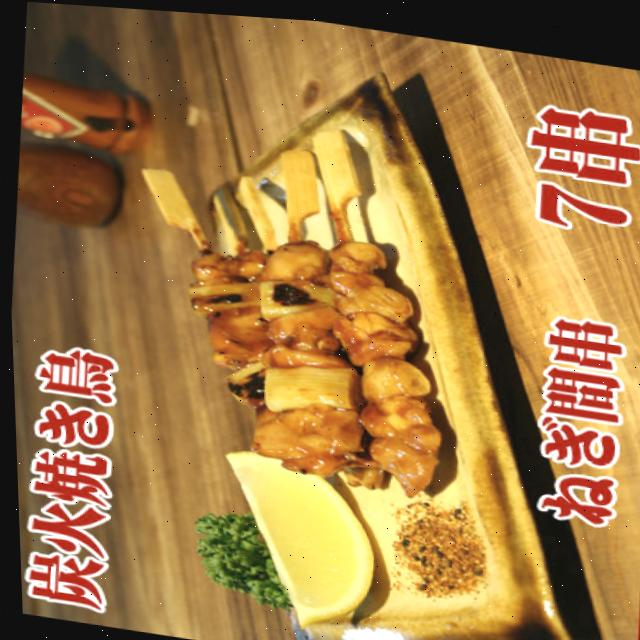烧串烤肉: (116, 98, 471, 500)
